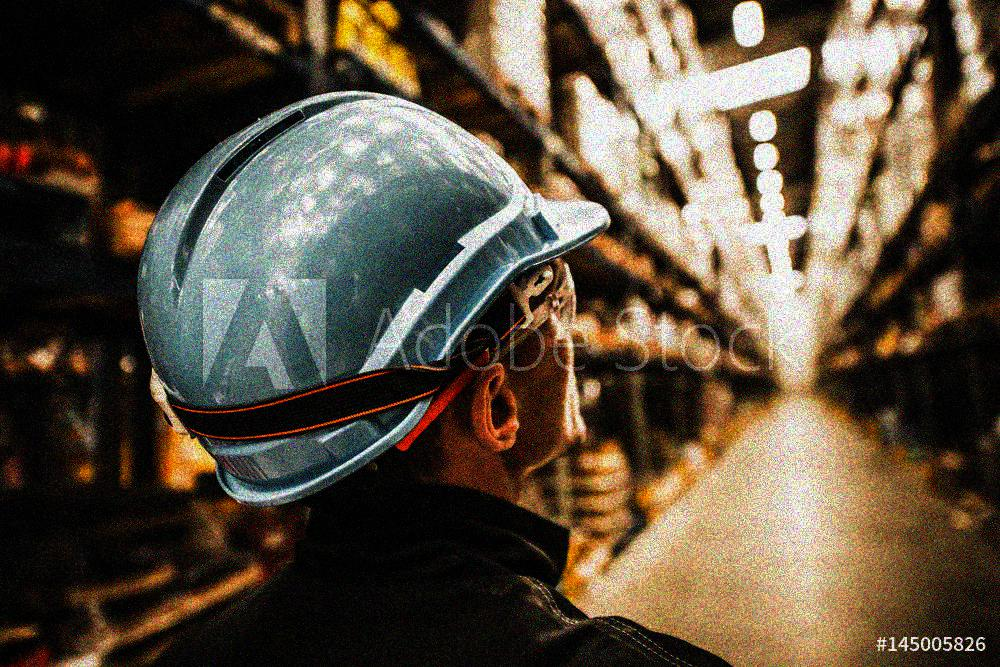helmet: (136, 78, 610, 507)
